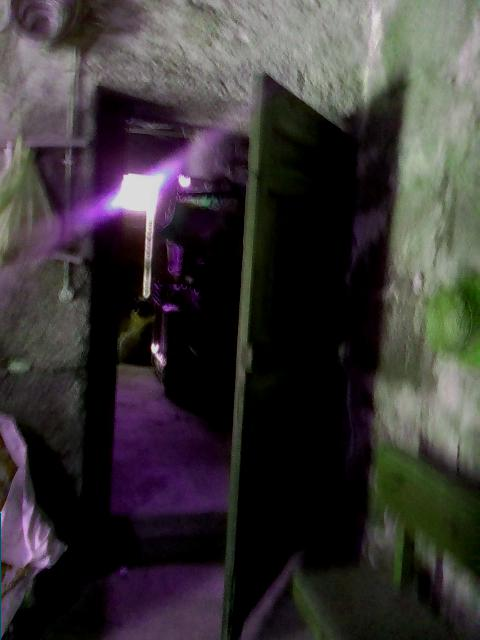semi_door: (80, 69, 358, 639)
